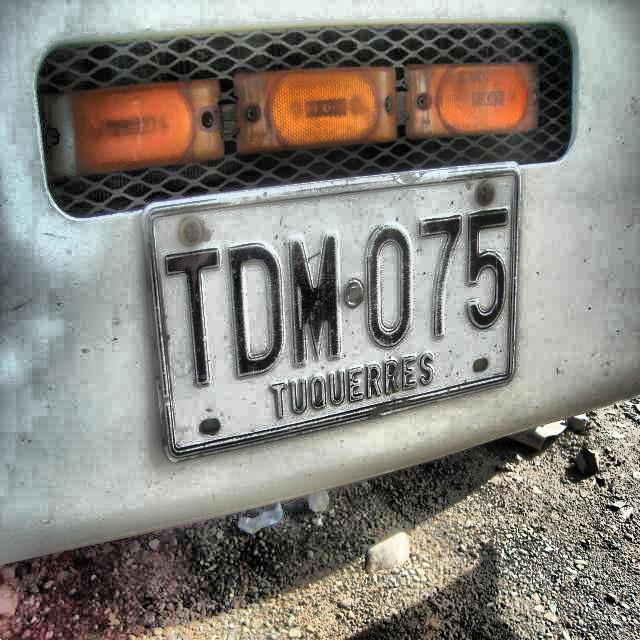plate: (138, 161, 523, 464)
